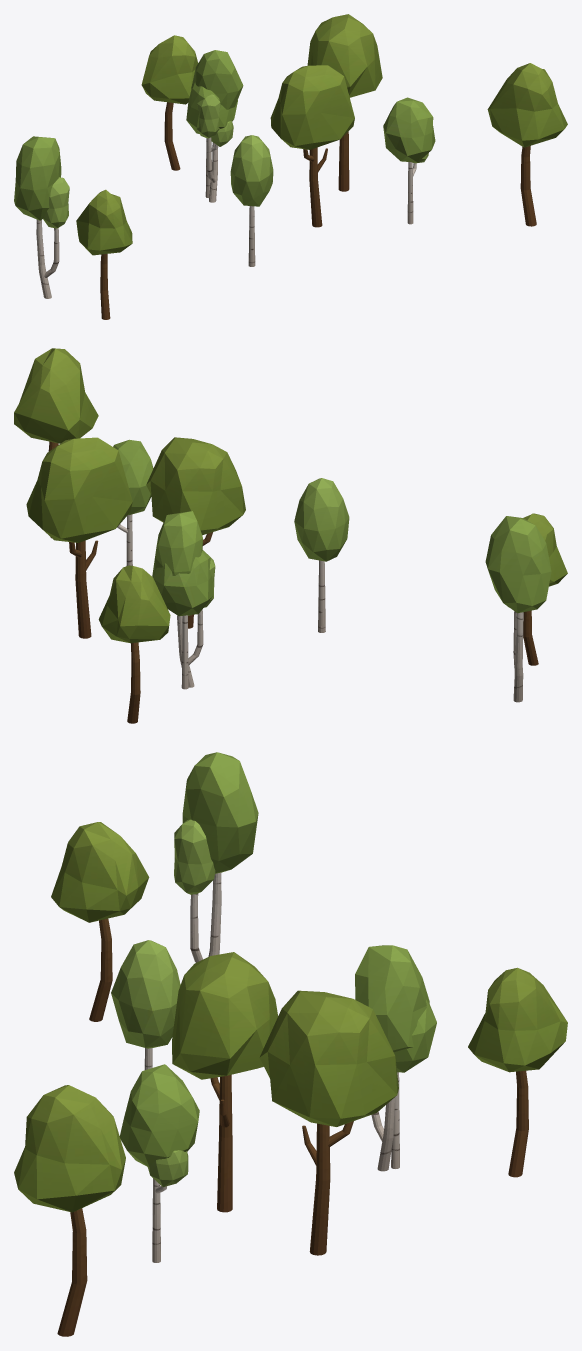
The model's file is Trees13.gltf.
3 views of the same model, one above another, from view 1: azimuth 30°, elevation 25°; view 2: azimuth 150°, elevation 25°; view 3: azimuth 270°, elevation 25° (orthographic). The views are drawn at different scales.
Parts seen in each view (by area): view 1: Beechtree3 - copy.018, Beechtree1 - copy.012, BirchTree2 - copy.039, Beechtree3 - copy.032, Beechtree1 - copy.046, BirchTree2 - copy.014, Beechtree1 - copy.040, BirchTree3 - copy.034, BirchTree1 - copy.042, BirchTree3 - copy.017; view 2: Beechtree3 - copy.032, Beechtree3 - copy.018, BirchTree2 - copy.039, Beechtree1 - copy.012, Beechtree1 - copy.046, BirchTree1 - copy.042, BirchTree2 - copy.014, BirchTree3 - copy.017, BirchTree3 - copy.034, Beechtree1 - copy.040; view 3: Beechtree3 - copy.032, Beechtree3 - copy.018, Beechtree1 - copy.012, BirchTree2 - copy.039, Beechtree1 - copy.046, Beechtree1 - copy.040, BirchTree3 - copy.034, BirchTree2 - copy.014, BirchTree1 - copy.042, BirchTree3 - copy.017.
Boxes of the visible parts, x1,y1,x2,y2 form: Beechtree3 - copy.018: [270, 65, 354, 227]; Beechtree1 - copy.012: [487, 63, 567, 226]; BirchTree2 - copy.039: [14, 136, 69, 298]; Beechtree3 - copy.032: [307, 14, 382, 191]; Beechtree1 - copy.046: [141, 35, 198, 170]; BirchTree2 - copy.014: [191, 50, 243, 202]; Beechtree1 - copy.040: [76, 189, 132, 319]; BirchTree3 - copy.034: [383, 97, 435, 224]; BirchTree1 - copy.042: [230, 135, 273, 266]; BirchTree3 - copy.017: [186, 82, 237, 197]; Beechtree3 - copy.032: [26, 437, 132, 638]; Beechtree3 - copy.018: [146, 437, 245, 628]; BirchTree2 - copy.039: [485, 516, 551, 702]; Beechtree1 - copy.012: [14, 348, 98, 538]; Beechtree1 - copy.046: [98, 565, 170, 723]; BirchTree1 - copy.042: [294, 478, 349, 632]; BirchTree2 - copy.014: [152, 511, 215, 687]; BirchTree3 - copy.017: [153, 550, 212, 689]; BirchTree3 - copy.034: [113, 439, 153, 566]; Beechtree1 - copy.040: [523, 513, 567, 665]; Beechtree3 - copy.032: [259, 990, 398, 1255]; Beechtree3 - copy.018: [172, 952, 278, 1212]; Beechtree1 - copy.012: [14, 1085, 125, 1336]; BirchTree2 - copy.039: [174, 752, 258, 962]; Beechtree1 - copy.046: [468, 967, 567, 1177]; Beechtree1 - copy.040: [51, 822, 149, 1021]; BirchTree3 - copy.034: [119, 1064, 199, 1262]; BirchTree2 - copy.014: [355, 945, 429, 1171]; BirchTree1 - copy.042: [111, 940, 180, 1069]; BirchTree3 - copy.017: [391, 999, 436, 1168].
Bounding box in the file's own units: 35.8 × 11.68 × 22.42.
5 materials, 5 textured.
